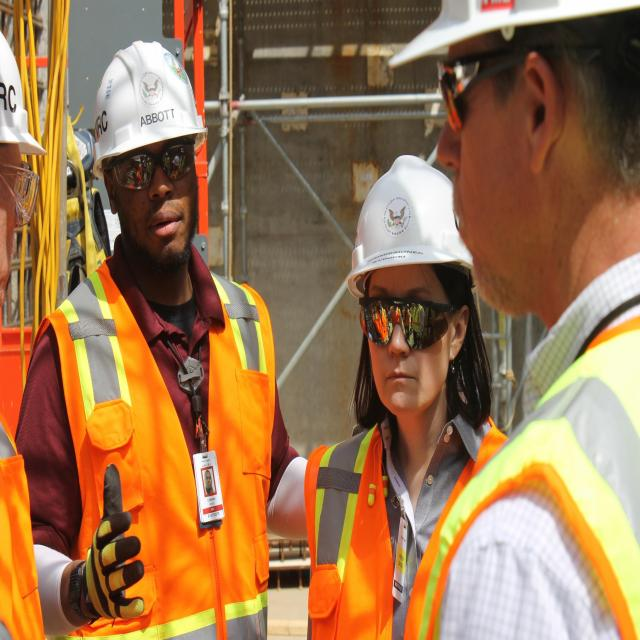vest: (31, 254, 282, 636), (301, 391, 568, 637)
